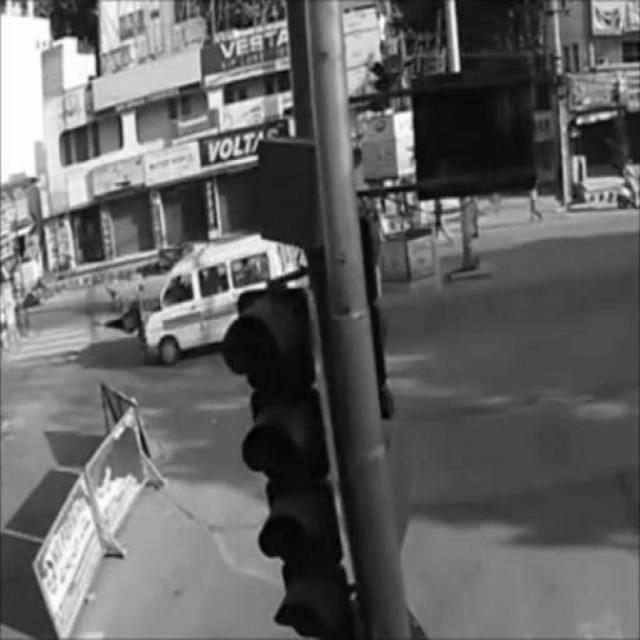accident: (106, 232, 321, 360)
